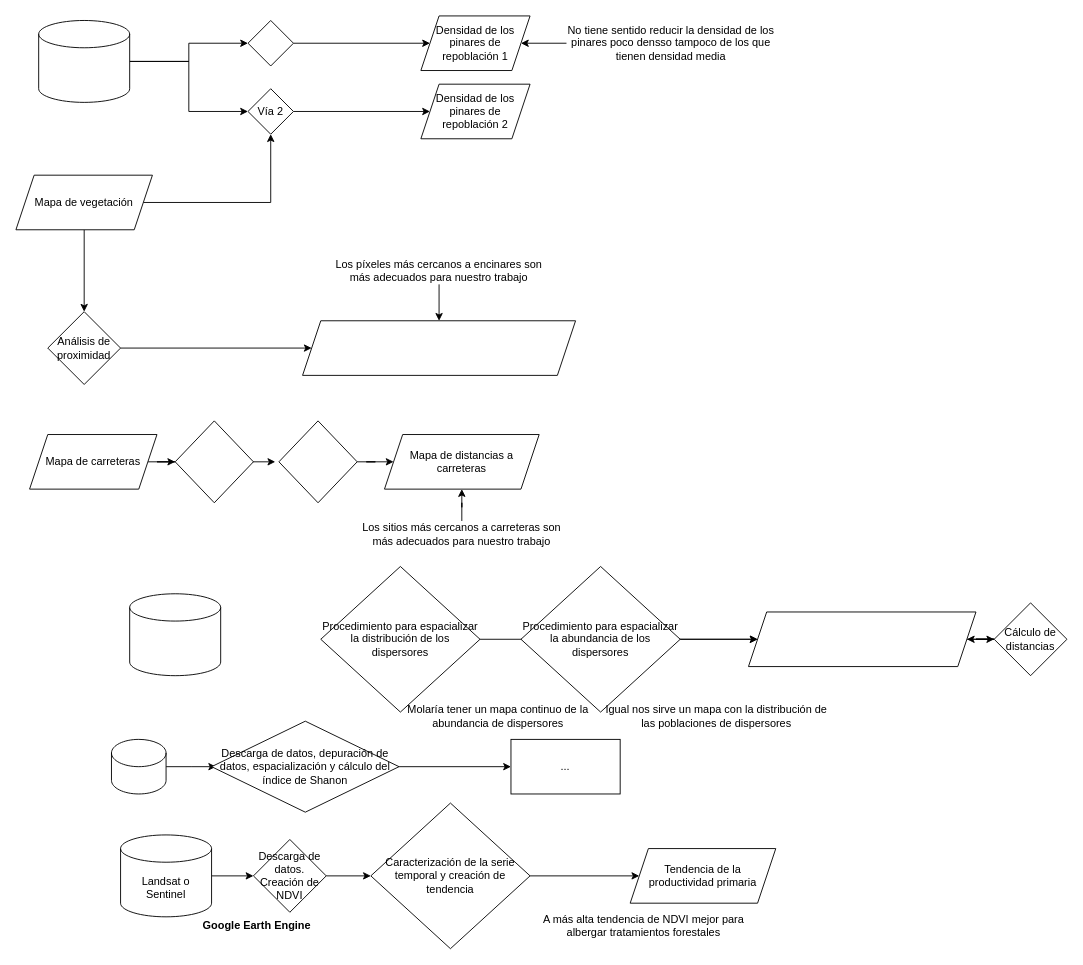
Some shapes in this 1083 by 965 pixel diagram are drawn without their labels. Here are the shapes that lost their labels. From the top down, the centre of each, then its label:
the point at 84,61: Inventarios forestales
the point at 270,43: Vía 1
the point at 439,347: Mapa de proximidad (distancia de cada píxel con encinas más cercano)
the point at 213,461: Convertir a ráster
the point at 317,461: Calcular distancias
the point at 175,634: Atlas de fauna
the point at 862,639: Mapa de abundancia de dispersores (arrendajos, roedores)
the point at 138,766: GBIF
